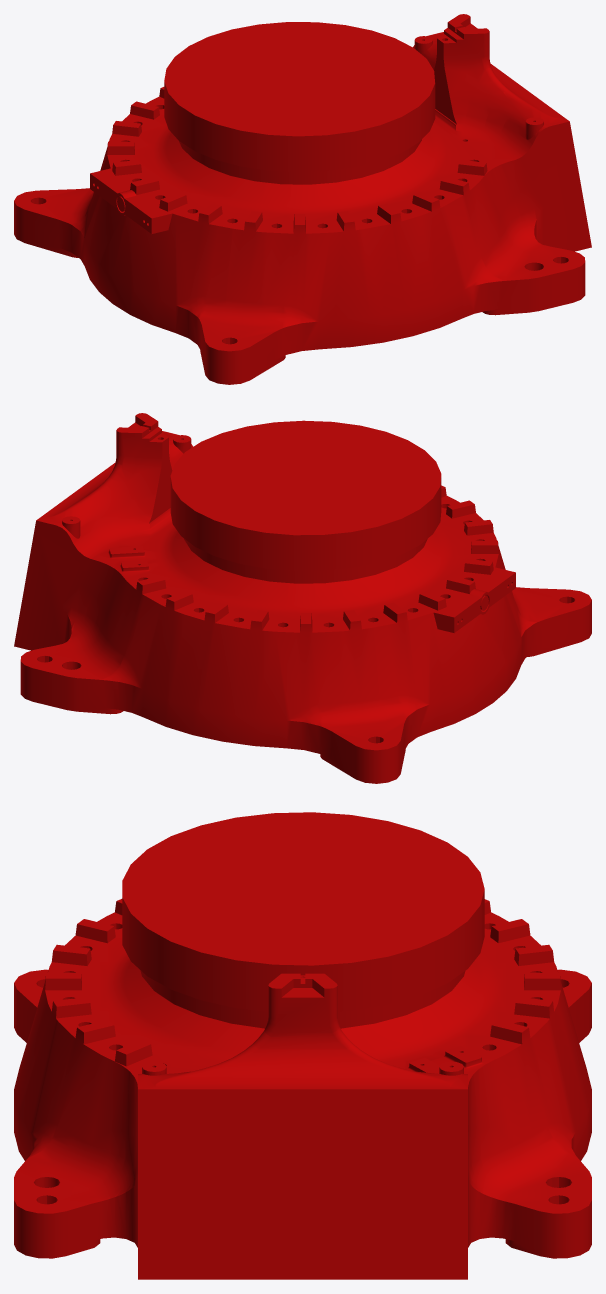
3 views of the same model, one above another, from view 1: azimuth 30°, elevation 25°; view 2: azimuth 150°, elevation 25°; view 3: azimuth 270°, elevation 25° (orthographic). The views are drawn at different scales.
Parts seen in each view (by area): view 1: base_link; view 2: base_link; view 3: base_link.
Part boxes in pixels (box(x1,y1,x2,y2)): base_link: box(14, 14, 591, 384); base_link: box(14, 413, 591, 783); base_link: box(14, 812, 591, 1279).
Bounding box in the file's own units: 0.7814 × 0.354 × 0.7.
